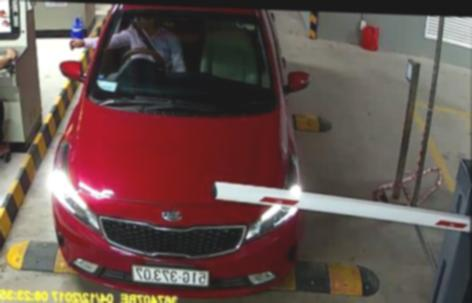License_Plate: (130, 259, 213, 287)
